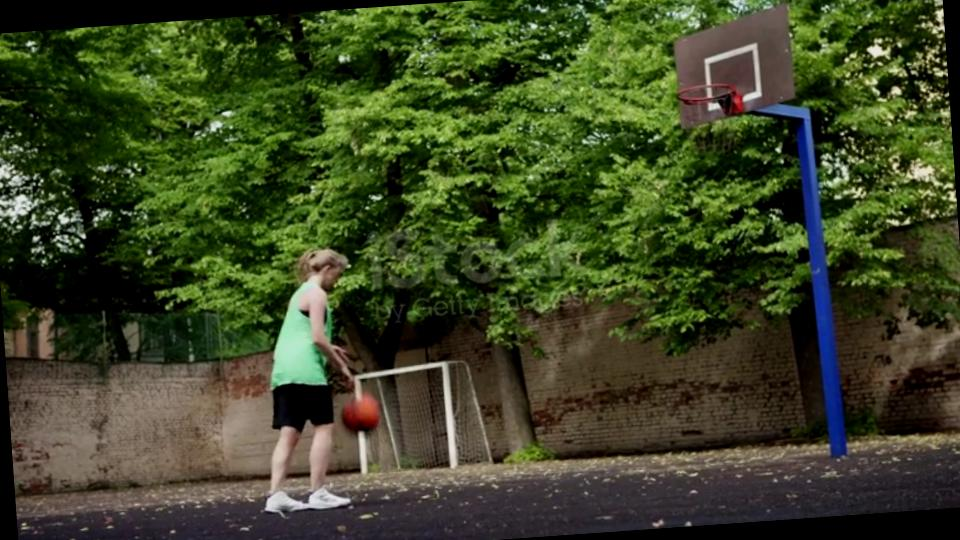hoop: (670, 80, 753, 122)
